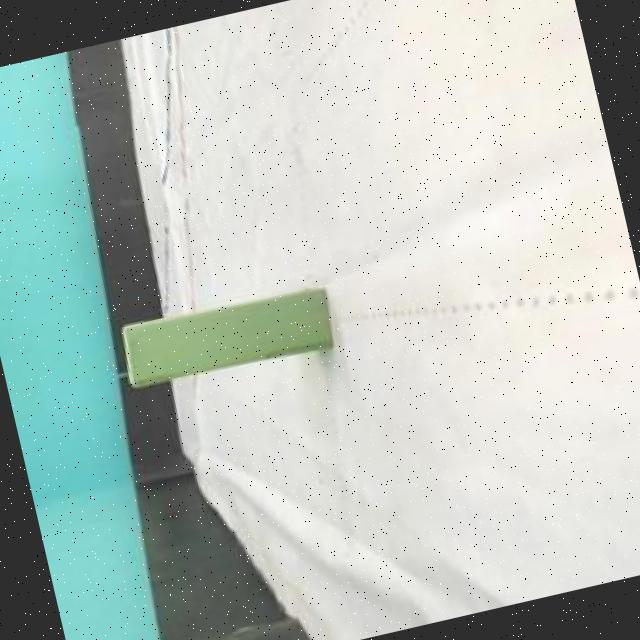greenbox: (117, 280, 340, 390)
